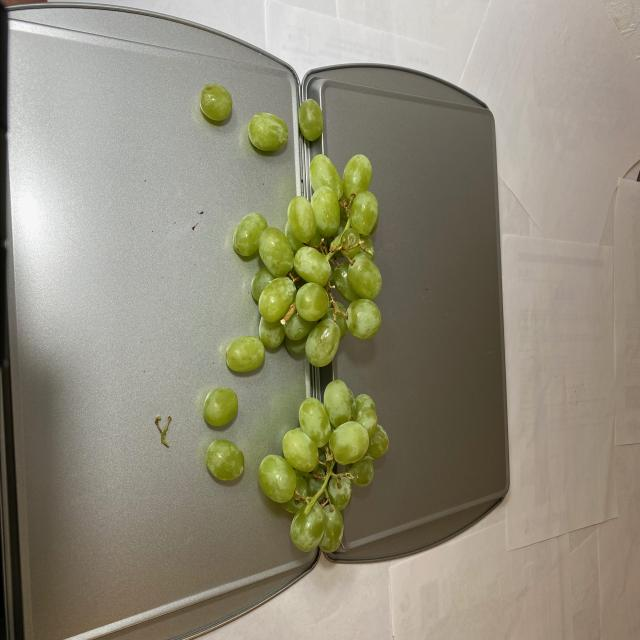grapes: (194, 83, 387, 552)
